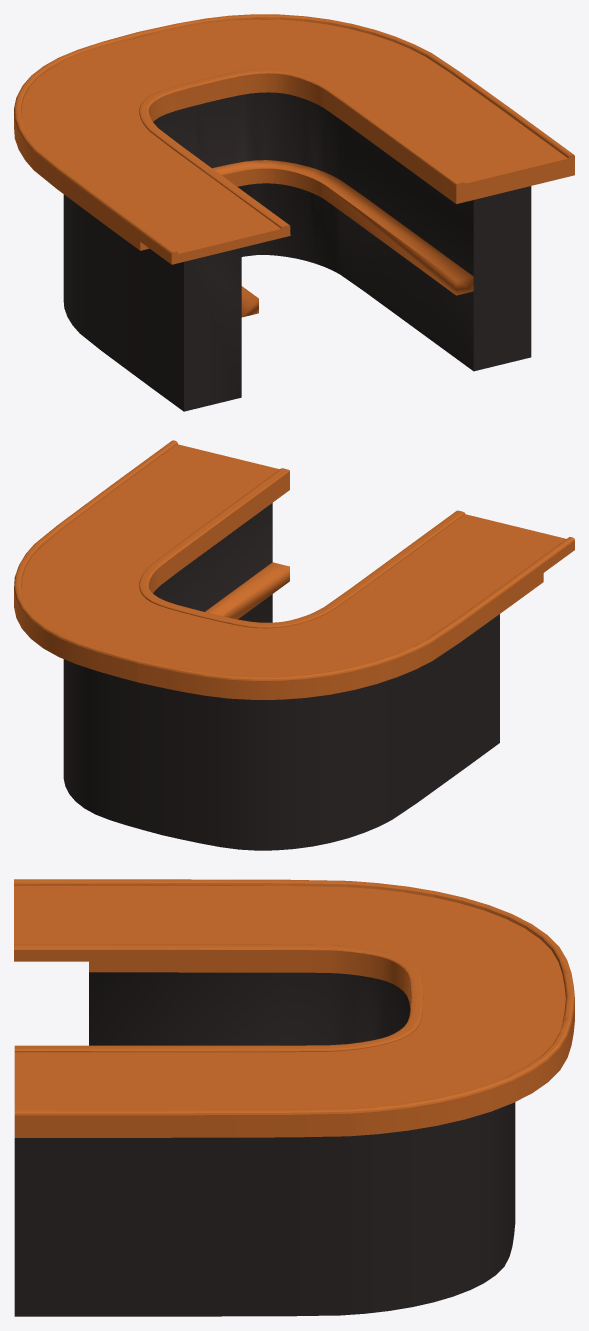
The picture shows the model from 3 angles, top to bottom: view 1: azimuth 30°, elevation 25°; view 2: azimuth 150°, elevation 25°; view 3: azimuth 270°, elevation 25°; orthographic projection. The views are drawn at different scales.
Parts seen in each view (by area): view 1: RoundBar.009; view 2: RoundBar.009; view 3: RoundBar.009.
Boxes of the visible parts, left/top/right/bottom form: RoundBar.009: left=14, top=14, right=574, bottom=411; RoundBar.009: left=14, top=440, right=574, bottom=850; RoundBar.009: left=14, top=879, right=574, bottom=1316.
Size of what is drawn, in the model's own units: 2.42 by 1.1 by 2.45.
1 material, 1 textured.
